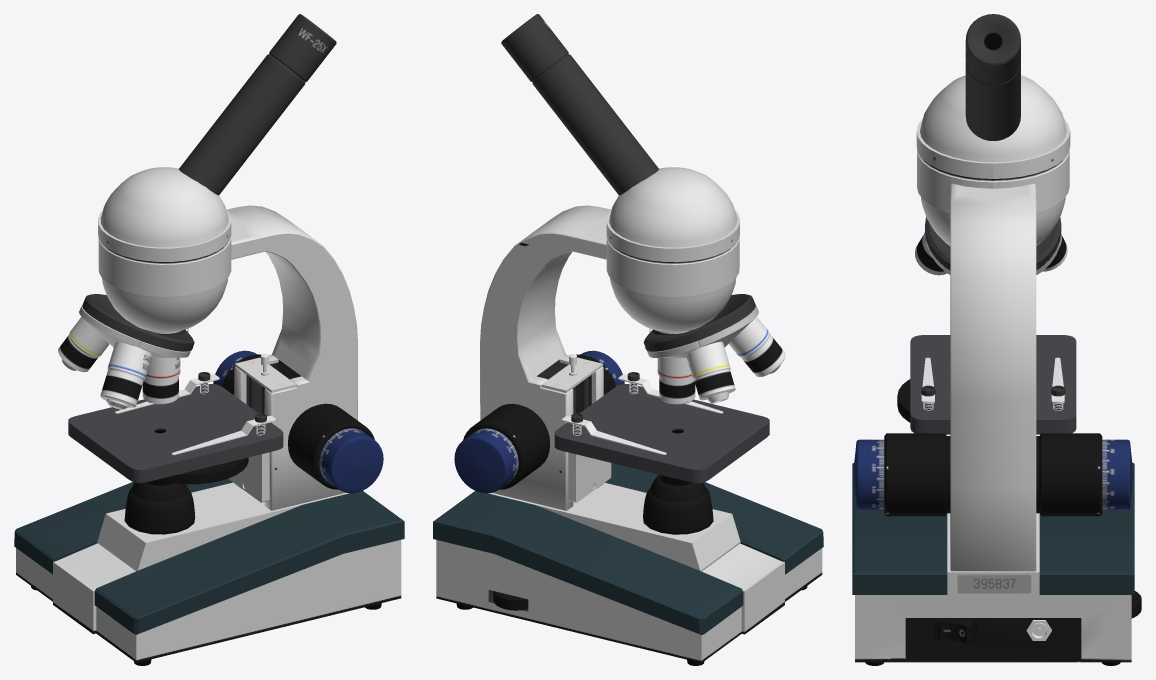
The model's file is microscope-objaverse.glb.
The picture shows the model from 3 angles, left to right: view 1: azimuth 30°, elevation 25°; view 2: azimuth 150°, elevation 25°; view 3: azimuth 270°, elevation 25°; orthographic projection. The views are drawn at different scales.
Visible parts, largest first — view 1: base, body_tube, stage, eyepiece, objective_lenses, focus_knob; view 2: base, body_tube, stage, eyepiece, objective_lenses, focus_knob; view 3: base, body_tube, stage, focus_knob, eyepiece, objective_lenses.
Part boxes in pixels (<box>): base: <box>14,205,404,665</box>; body_tube: <box>98,167,231,333</box>; stage: <box>68,372,283,484</box>; eyepiece: <box>178,14,336,195</box>; objective_lenses: <box>58,294,194,409</box>; focus_knob: <box>288,403,383,493</box>; base: <box>433,205,823,665</box>; body_tube: <box>606,167,739,333</box>; stage: <box>554,372,769,482</box>; eyepiece: <box>501,14,659,195</box>; objective_lenses: <box>643,294,785,404</box>; focus_knob: <box>576,350,624,411</box>; base: <box>852,182,1141,665</box>; body_tube: <box>916,75,1070,245</box>; stage: <box>897,335,1076,434</box>; focus_knob: <box>853,433,950,516</box>; eyepiece: <box>965,14,1020,140</box>; objective_lenses: <box>915,217,1067,275</box>.
Bounding box in the file's own units: 0.1834 × 0.35 × 0.1439.
Materials: 1 (1 with a texture image).
